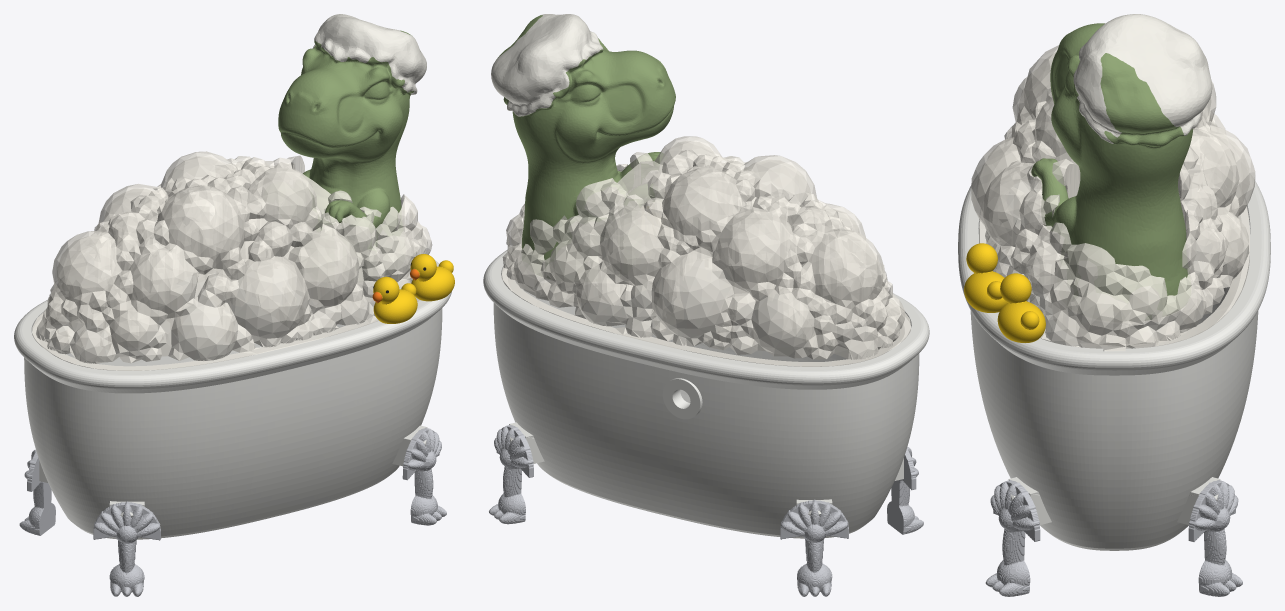
The model's file is H103-web.glb.
The picture shows the model from 3 angles, left to right: view 1: azimuth 30°, elevation 25°; view 2: azimuth 150°, elevation 25°; view 3: azimuth 270°, elevation 25°; orthographic projection. The views are drawn at different scales.
Visible parts, largest first — view 1: H103-tub, H103-dome, H103-trex-green, H103-trex-white, H103-foot3, H103-foot4, H103-foot2, H103-duck2-yellow, H103-duck1-yellow; view 2: H103-tub, H103-dome, H103-trex-green, H103-trex-white, H103-foot2, H103-foot1, H103-foot3; view 3: H103-tub, H103-dome, H103-trex-green, H103-trex-white, H103-foot4, H103-foot1, H103-duck1-yellow, H103-duck2-yellow.
Part boxes in pixels (box(x1,y1,x2,y2)): H103-tub: box(14, 260, 451, 539); H103-dome: box(32, 151, 432, 370); H103-trex-green: box(278, 30, 413, 251); H103-trex-white: box(312, 14, 426, 94); H103-foot3: box(93, 501, 160, 596); H103-foot4: box(402, 427, 446, 525); H103-foot2: box(19, 449, 55, 535); H103-duck2-yellow: box(373, 276, 417, 323); H103-duck1-yellow: box(410, 254, 454, 301); H103-tub: box(483, 247, 929, 538); H103-dome: box(501, 136, 910, 366); H103-trex-green: box(496, 15, 675, 278); H103-trex-white: box(491, 14, 603, 116); H103-foot2: box(780, 499, 848, 596); H103-foot1: box(489, 425, 533, 524); H103-foot3: box(887, 447, 923, 534); H103-tub: box(958, 164, 1270, 550); H103-dome: box(971, 45, 1255, 351); H103-trex-green: box(1031, 23, 1193, 320); H103-trex-white: box(1073, 14, 1212, 143); H103-foot4: box(985, 480, 1040, 596); H103-foot1: box(1188, 480, 1242, 596); H103-duck1-yellow: box(997, 273, 1045, 342); H103-duck2-yellow: box(964, 243, 1007, 312).
Size of the model in its own units: 0.24 by 0.2669 by 0.135.
